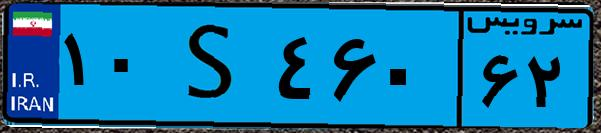0: (385, 28, 445, 110), (110, 28, 158, 98)
1: (57, 26, 110, 100)
2: (525, 38, 570, 115)
4: (270, 28, 330, 110)
6: (330, 28, 385, 110), (475, 38, 525, 113)
S: (158, 12, 270, 120)
